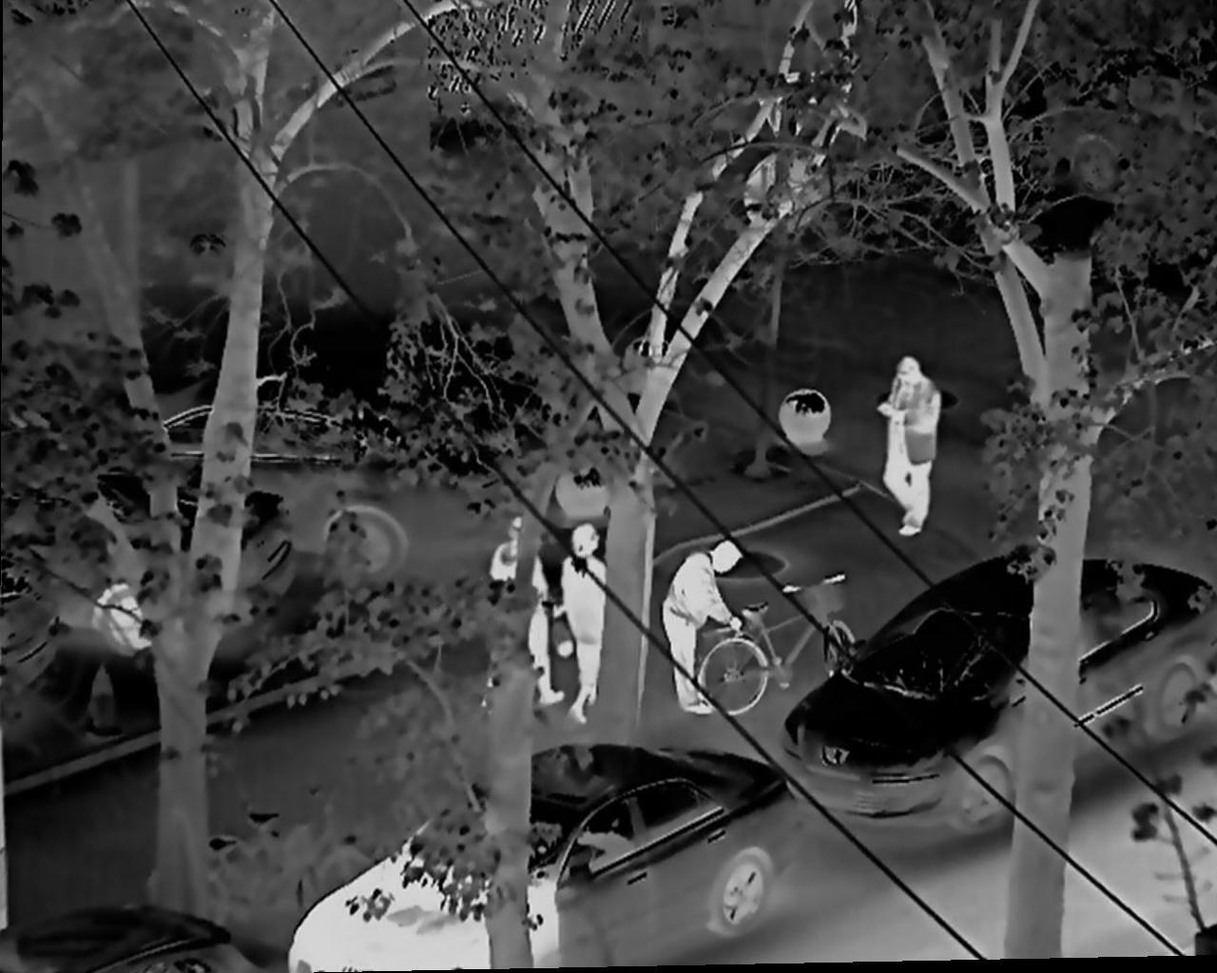person: (662, 537, 743, 713), (873, 356, 940, 535), (559, 522, 606, 724)
